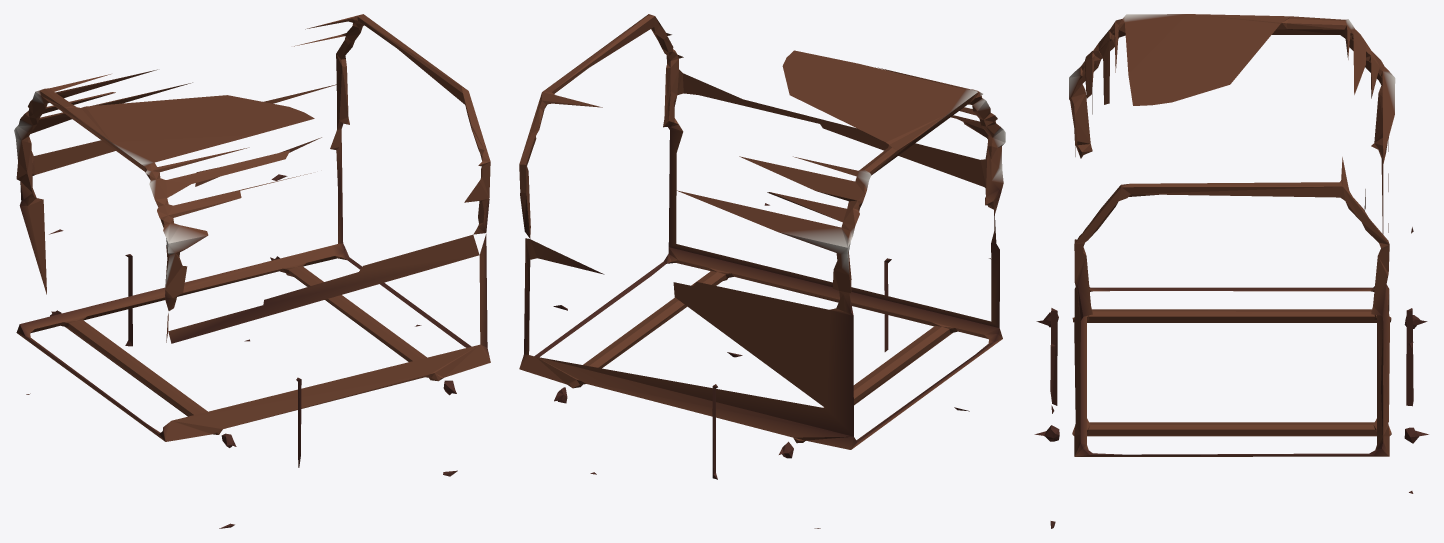
File: Carts and Wagons.glb
3 views of the same model, side by side, from view 1: azimuth 30°, elevation 25°; view 2: azimuth 150°, elevation 25°; view 3: azimuth 270°, elevation 25° (orthographic). The views are drawn at different scales.
Visible parts, largest first — view 1: Root; view 2: Root; view 3: Root.
Part boxes in pixels (box(x1,y1,x2,y2)): Root: box(14, 14, 490, 528); Root: box(519, 14, 1005, 528); Root: box(1034, 14, 1428, 528).
Size of the model in its own units: 2.99 by 3.09 by 2.97.
